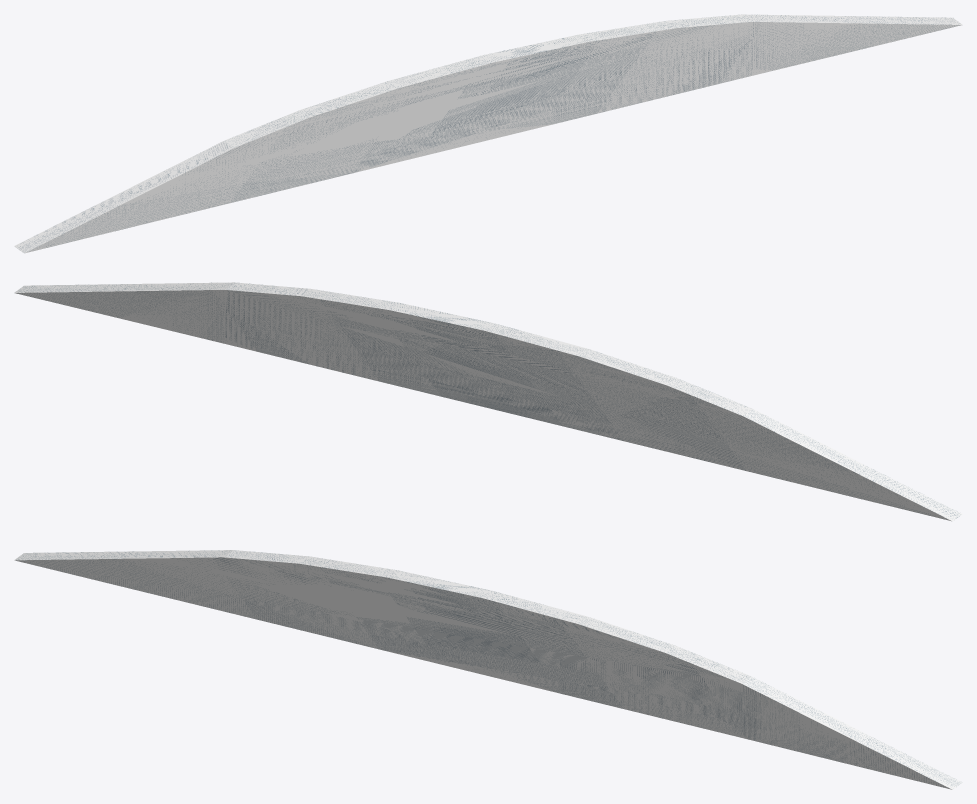
Rendered from senti-mesh-fear-3.dae.
3 renders of one model, top to bottom at view 1: azimuth 30°, elevation 25°; view 2: azimuth 150°, elevation 25°; view 3: azimuth 330°, elevation 25°, orthographic.
Visible parts, largest first — view 1: group_0; view 2: group_0; view 3: group_0.
Boxes of the visible parts, x1=… form: group_0: x1=14, y1=14, x2=962, y2=253; group_0: x1=14, y1=282, x2=962, y2=521; group_0: x1=14, y1=550, x2=962, y2=789.
Size of the model in its own units: 10.58 by 0.1972 by 0.8296.
